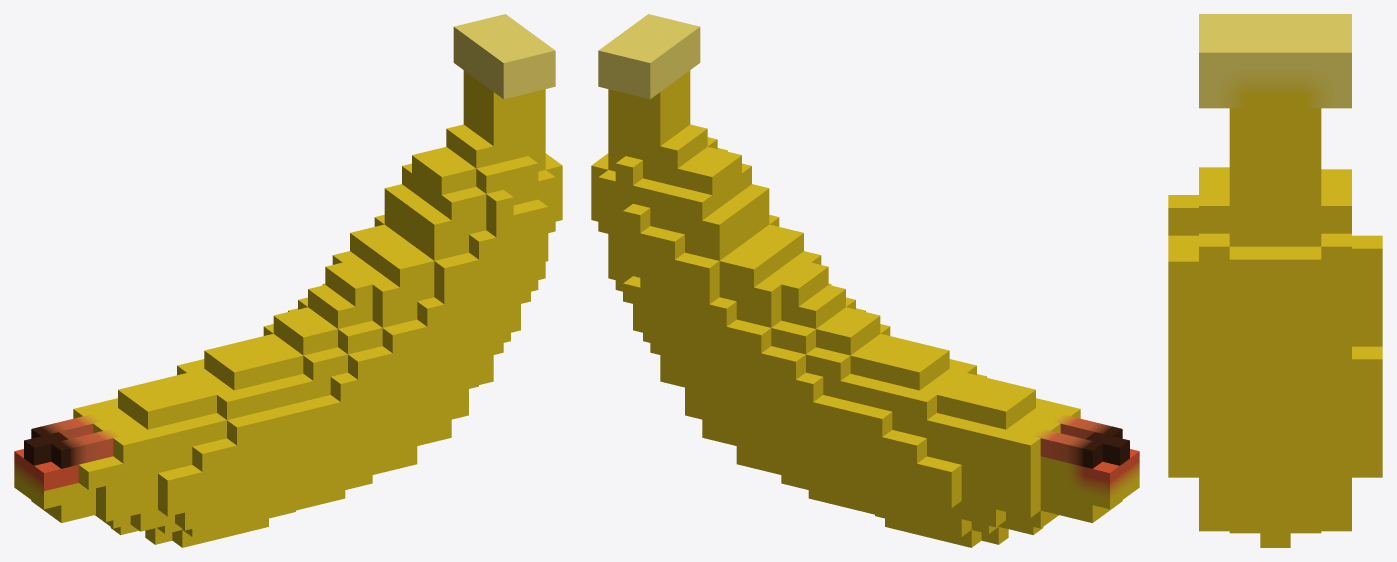
Rendered from banana.glb.
3 views of the same model, side by side, from view 1: azimuth 30°, elevation 25°; view 2: azimuth 150°, elevation 25°; view 3: azimuth 270°, elevation 25° (orthographic). The views are drawn at different scales.
Parts seen in each view (by area): view 1: banana; view 2: banana; view 3: banana.
Boxes of the visible parts, bbox=[...] form: banana: bbox=[14, 14, 562, 547]; banana: bbox=[591, 14, 1139, 547]; banana: bbox=[1168, 14, 1382, 547].
Size of the model in its own units: 2.56 by 1.96 by 0.5968.
Materials: 1 (1 with a texture image).
